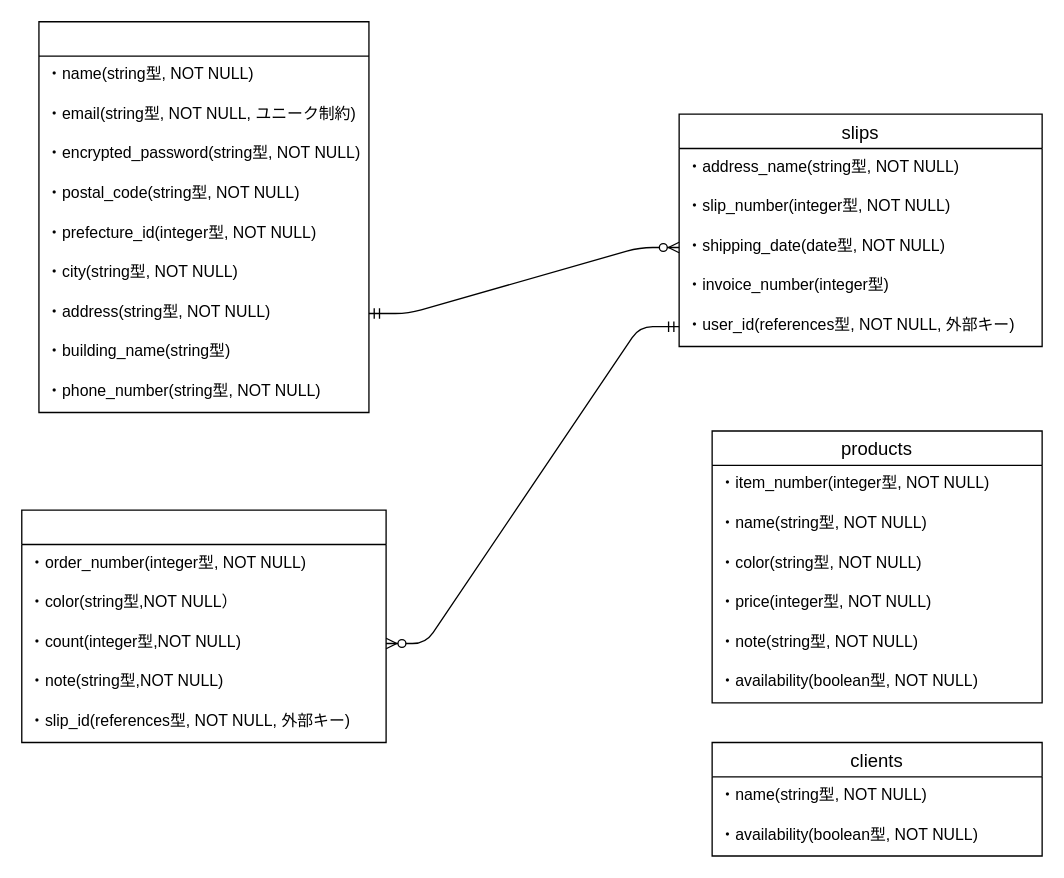
Some shapes in this 1064 by 878 pixel diagram are drawn without their labels. The shapes that lost their labels are listed below. From the top down, each one's box as (x1, y1, x2, y2) in pixels, then its label:
(38, 20, 369, 412): users
(20, 509, 386, 742): orders
